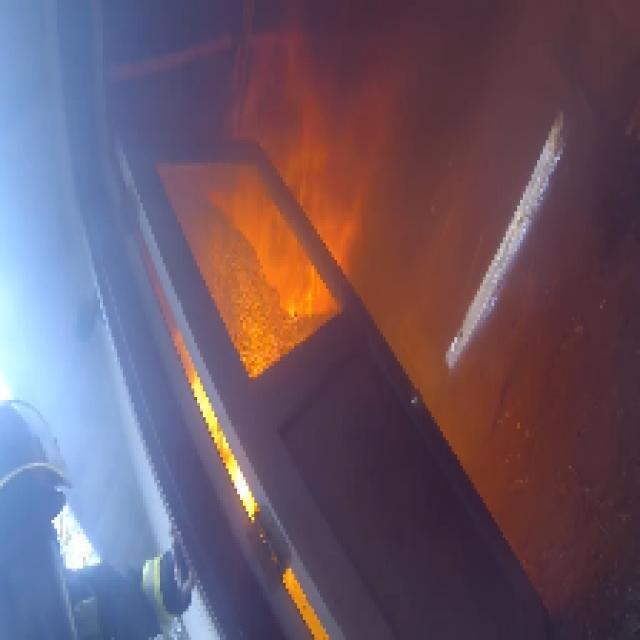Fire: (202, 60, 364, 346)
